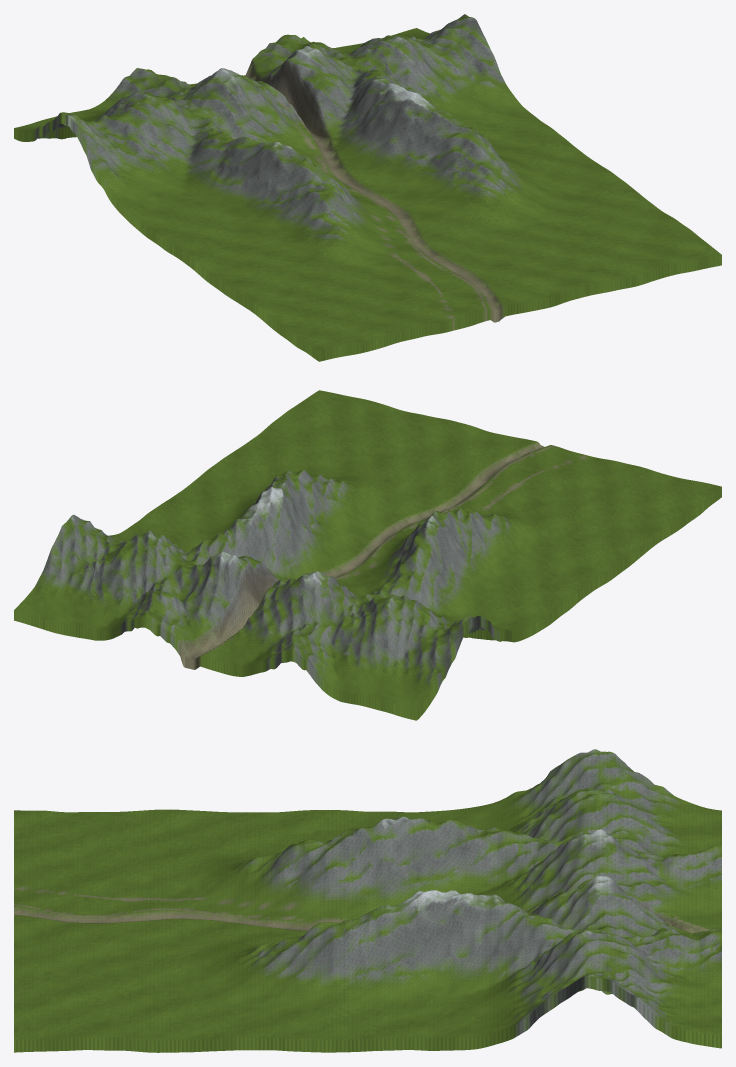
Rendered from terrain-chunks.glb.
3 views of the same model, one above another, from view 1: azimuth 30°, elevation 25°; view 2: azimuth 150°, elevation 25°; view 3: azimuth 270°, elevation 25° (orthographic). The views are drawn at different scales.
Visible parts, largest first — view 1: Highlands_2_6_L2, Highlands_1_3_L2, Highlands_6_6_L2, Highlands_1_4_L2, Highlands_6_7_L2, Highlands_2_5_L2, Highlands_9_3_L2, Highlands_2_7_L2, Highlands_5_5_L2, Highlands_6_5_L2, Highlands_0_3_L2, Highlands_5_6_L2 (+116 smaller); view 2: Highlands_1_0_L2, Highlands_3_1_L2, Highlands_1_1_L2, Highlands_4_0_L2, Highlands_8_0_L2, Highlands_9_1_L2, Highlands_5_1_L2, Highlands_0_0_L2, Highlands_9_0_L2, Highlands_0_0_L0, Highlands_2_7_L2, Highlands_8_1_L2 (+123 smaller); view 3: Highlands_7_5_L2, Highlands_7_4_L2, Highlands_7_6_L2, Highlands_3_5_L2, Highlands_4_7_L2, Highlands_3_4_L2, Highlands_7_7_L2, Highlands_3_6_L2, Highlands_8_6_L2, Highlands_7_0_L2, Highlands_8_8_L2, Highlands_4_0_L2 (+185 smaller).
Boxes of the visible parts, x1,y1,x2,y2 form: Highlands_2_6_L2: [234, 155, 297, 225]; Highlands_1_3_L2: [124, 121, 186, 180]; Highlands_6_6_L2: [395, 110, 455, 182]; Highlands_1_4_L2: [147, 167, 210, 203]; Highlands_6_7_L2: [418, 141, 481, 201]; Highlands_2_5_L2: [216, 140, 270, 207]; Highlands_9_3_L2: [448, 40, 509, 99]; Highlands_2_7_L2: [258, 189, 320, 243]; Highlands_5_5_L2: [332, 124, 394, 178]; Highlands_6_5_L2: [372, 88, 434, 156]; Highlands_0_3_L2: [84, 138, 146, 193]; Highlands_5_6_L2: [362, 157, 417, 201]; Highlands_1_0_L2: [336, 659, 398, 708]; Highlands_3_1_L2: [280, 584, 341, 645]; Highlands_1_1_L2: [360, 613, 422, 672]; Highlands_4_0_L2: [215, 633, 278, 676]; Highlands_8_0_L2: [54, 595, 117, 639]; Highlands_9_1_L2: [40, 530, 95, 594]; Highlands_5_1_L2: [201, 564, 246, 642]; Highlands_0_0_L2: [377, 674, 439, 717]; Highlands_9_0_L2: [14, 582, 77, 631]; Highlands_0_0_L0: [376, 675, 439, 720]; Highlands_2_7_L2: [462, 519, 521, 569]; Highlands_8_1_L2: [78, 550, 135, 601]; Highlands_7_5_L2: [398, 907, 452, 990]; Highlands_7_4_L2: [452, 916, 506, 991]; Highlands_7_6_L2: [344, 910, 398, 985]; Highlands_3_5_L2: [398, 818, 452, 892]; Highlands_4_7_L2: [290, 870, 344, 928]; Highlands_3_4_L2: [452, 830, 506, 894]; Highlands_7_7_L2: [290, 921, 344, 982]; Highlands_3_6_L2: [344, 817, 398, 885]; Highlands_8_6_L2: [344, 980, 398, 1017]; Highlands_7_0_L2: [668, 934, 721, 990]; Highlands_8_8_L2: [236, 983, 290, 1017]; Highlands_4_0_L2: [668, 881, 721, 923].
Size of the model in its own units: 800 by 146 by 1050.
Materials: 1 (1 with a texture image).
